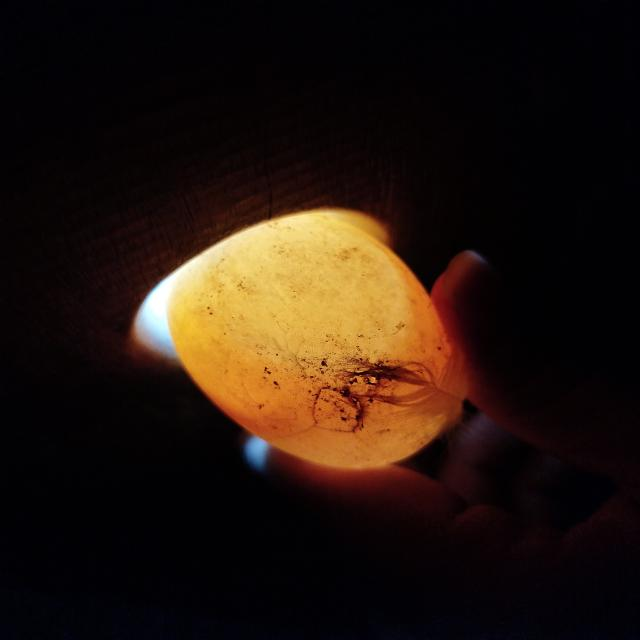Camara de Ar: (217, 212, 412, 372)
Rachadura: (314, 389, 361, 432)
